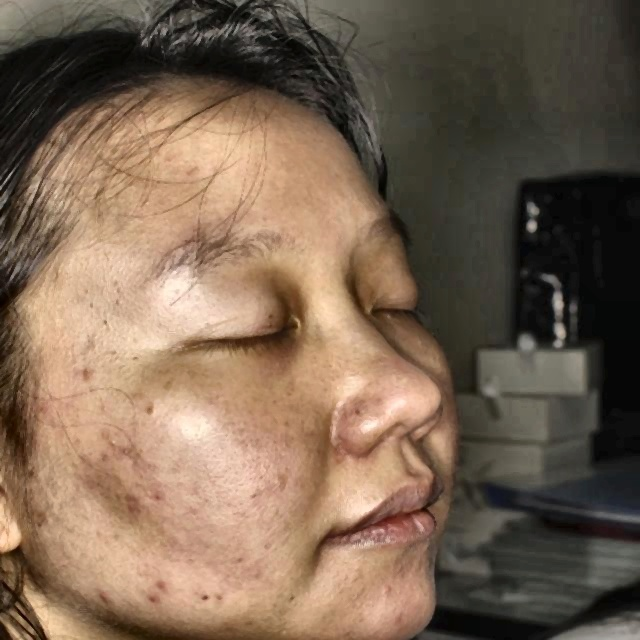pustule: (74, 583, 116, 614), (68, 358, 106, 392), (141, 566, 177, 600), (101, 431, 134, 459), (134, 584, 161, 618), (123, 488, 141, 519)
